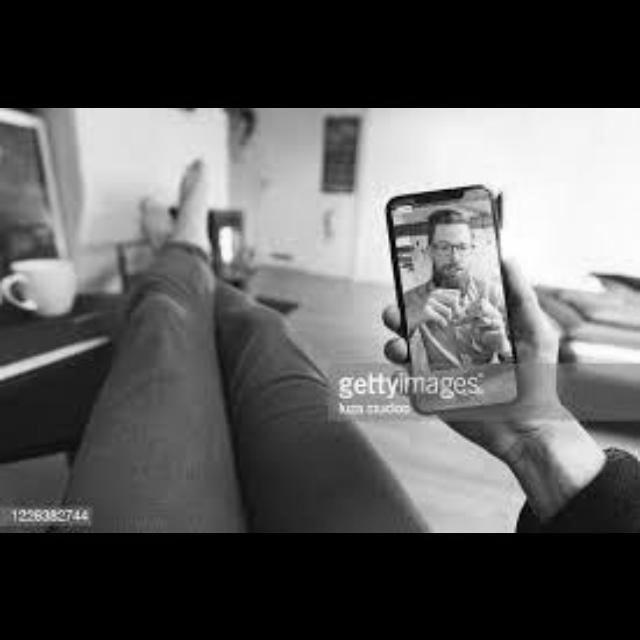fake: (357, 173, 548, 439)
